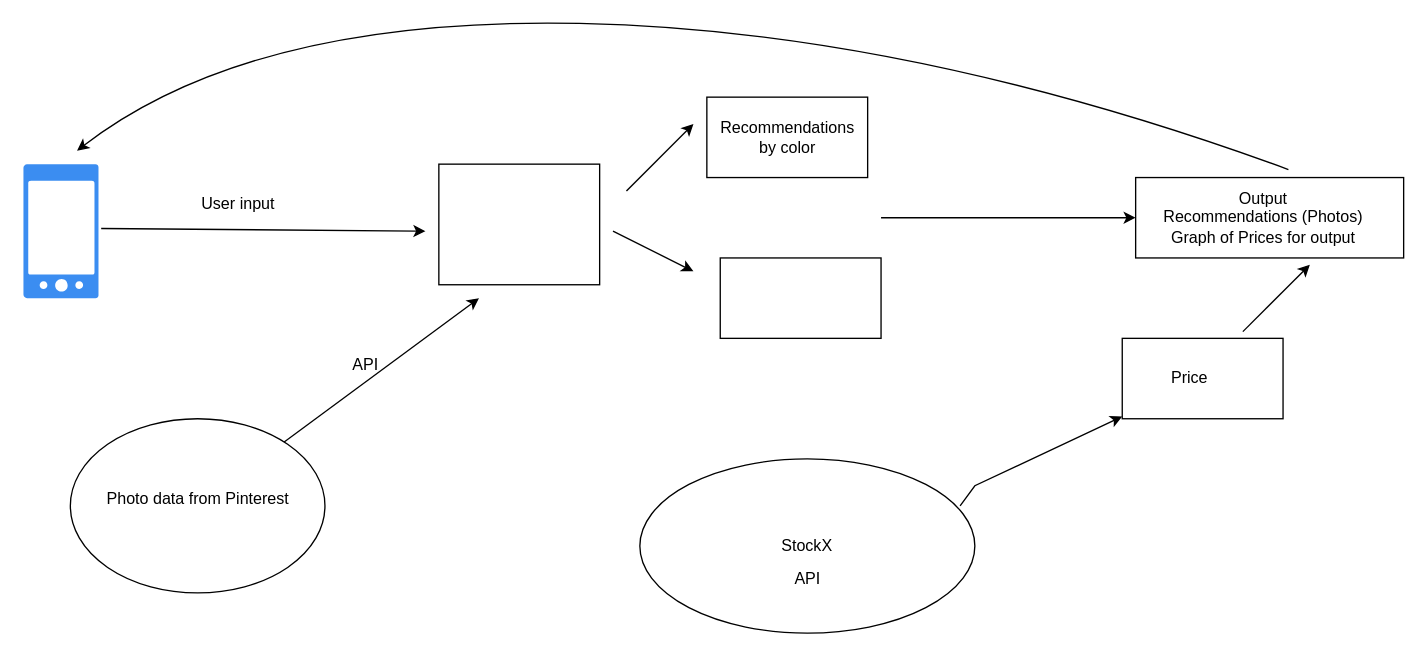
Image size: 1427x658. Some labels were removed from this diagram. Each missing label, with the centre of its shape:
"Recommendations by user similarity score" goes at pixel 800 297.
"Recommendations through ML (tensorflow?)" goes at pixel 519 224.
